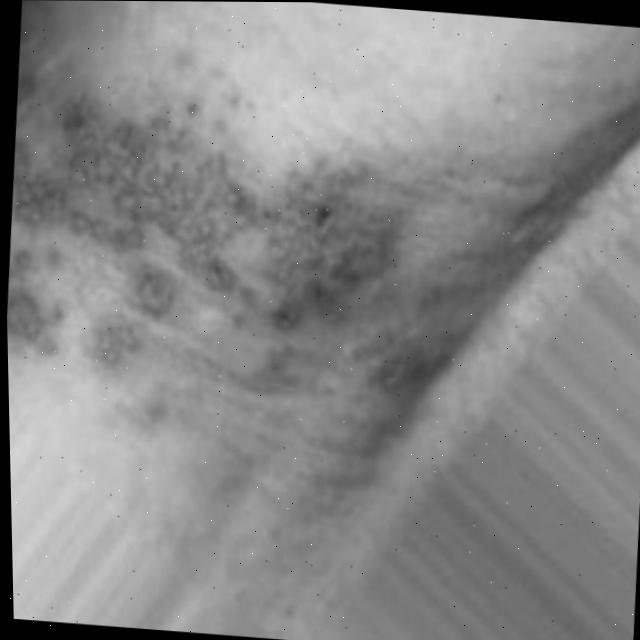Shingles: (2, 101, 517, 404)
